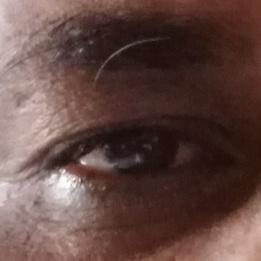open: (10, 93, 256, 223)
